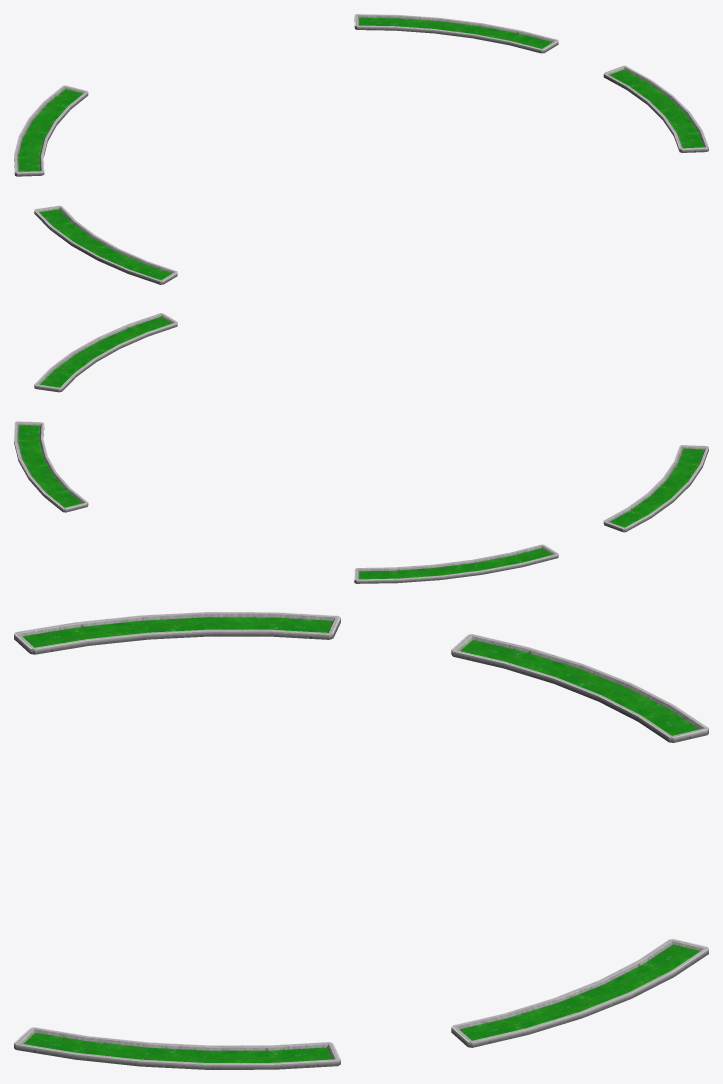
The model's file is shendian_huatan2.FBX.
3 views of the same model, one above another, from view 1: azimuth 30°, elevation 25°; view 2: azimuth 150°, elevation 25°; view 3: azimuth 270°, elevation 25° (orthographic). The views are drawn at different scales.
Visible parts, largest first — view 1: shendian_zhiwu_2; view 2: shendian_zhiwu_2; view 3: shendian_zhiwu_2.
Boxes of the visible parts, x1,y1,x2,y2 form: shendian_zhiwu_2: (14,14,708,284); shendian_zhiwu_2: (14,313,708,583); shendian_zhiwu_2: (14,612,708,1069).
Bounding box in the file's own units: 8978 × 48.69 × 5825.
